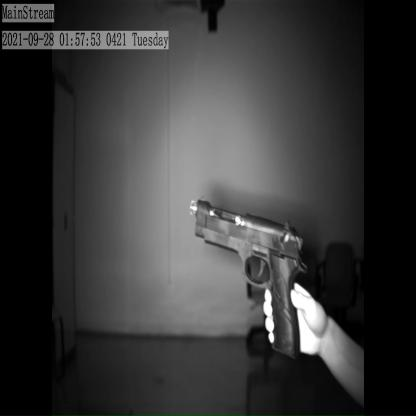weapon: (188, 195, 309, 364)
